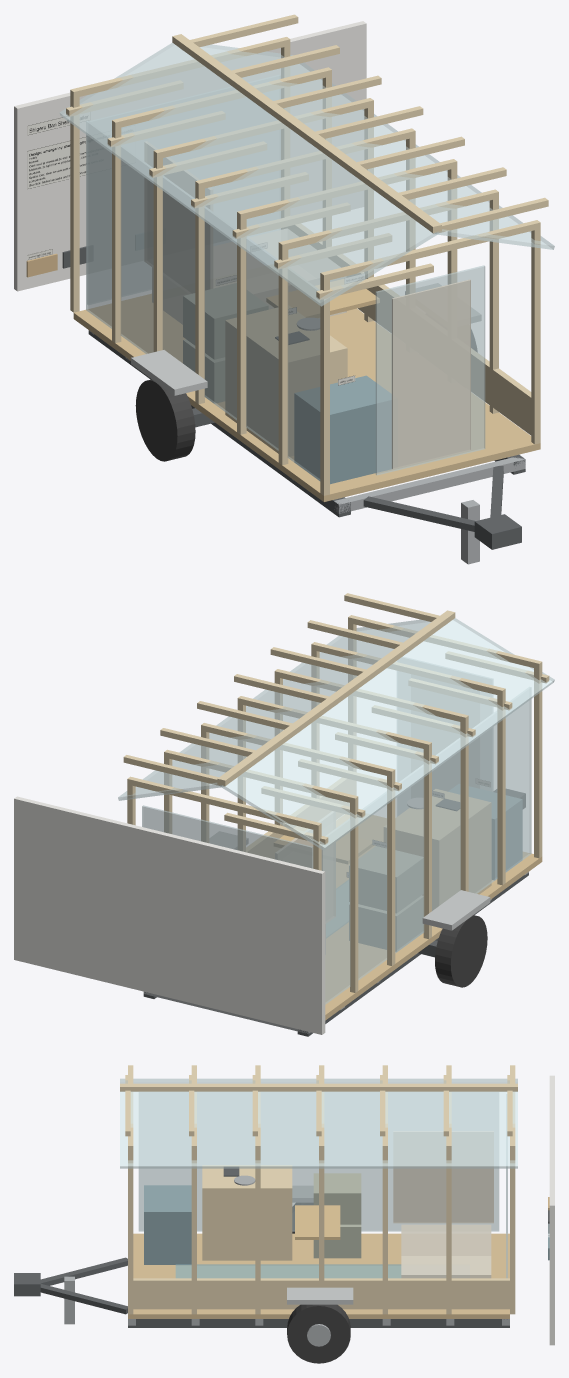
The model's file is shigeru-ban-shelter-trailer.dae.
3 renders of one model, top to bottom at view 1: azimuth 30°, elevation 25°; view 2: azimuth 150°, elevation 25°; view 3: azimuth 270°, elevation 25°, orthographic. The views are drawn at different scales.
Parts seen in each view (by area): view 1: left polycarbonate gable roof panel, left translucent wall panels, Shigeru Ban Shelter Trailer label board backing, rear translucent wall panel, 6x12 plywood trailer deck.002, canvas roll-up entry curtain, right polycarbonate gable roof panel, crate kitchenette module, water and battery crate utility zone, front translucent removable door panel, canvas privacy partition at cot, replaceable sleeping cot module (+48 smaller); view 2: Shigeru Ban Shelter Trailer label board backing, left polycarbonate gable roof panel, left translucent wall panels, right polycarbonate gable roof panel, crate kitchenette module, 6x12 plywood trailer deck.002, rear translucent wall panel, simple ridge cap, stacked storage crate 2, left trailer wheel.001, front translucent removable door panel, stacked storage crate 1 (+39 smaller); view 3: right polycarbonate gable roof panel, left translucent wall panels, 6x12 plywood trailer deck.002, cutaway side removable sill rail, canvas privacy partition at cot, crate kitchenette module, replaceable sleeping cot module, water and battery crate utility zone, simple ridge cap, central movement path - keep clear.002, right trailer wheel.001, right steel frame rail.001 (+18 smaller).
Part boxes in pixels (<box>): left polycarbonate gable roof panel: <box>59,43,438,306</box>; left translucent wall panels: <box>86,121,320,480</box>; Shigeru Ban Shelter Trailer label board backing: <box>14,21,366,291</box>; rear translucent wall panel: <box>87,75,280,304</box>; 6x12 plywood trailer deck.002: <box>73,294,540,501</box>; canvas roll-up entry curtain: <box>391,279,470,469</box>; right polycarbonate gable roof panel: <box>199,44,554,249</box>; crate kitchenette module: <box>225,305,347,456</box>; water and battery crate utility zone: <box>294,375,391,484</box>; front translucent removable door panel: <box>375,265,485,475</box>; canvas privacy partition at cot: <box>144,141,212,293</box>; replaceable sleeping cot module: <box>152,228,346,324</box>; Shigeru Ban Shelter Trailer label board backing: <box>14,796,325,1034</box>; left polycarbonate gable roof panel: <box>220,618,554,850</box>; left translucent wall panels: <box>321,687,531,1004</box>; right polycarbonate gable roof panel: <box>118,619,430,800</box>; crate kitchenette module: <box>384,789,491,910</box>; 6x12 plywood trailer deck.002: <box>325,814,542,1020</box>; rear translucent wall panel: <box>142,805,313,868</box>; simple ridge cap: <box>217,610,455,785</box>; stacked storage crate 2: <box>349,846,423,912</box>; left trailer wheel.001: <box>435,915,487,987</box>; front translucent removable door panel: <box>397,657,492,815</box>; stacked storage crate 1: <box>349,895,423,951</box>; right polycarbonate gable roof panel: <box>120,1091,517,1168</box>; left translucent wall panels: <box>138,1092,499,1231</box>; 6x12 plywood trailer deck.002: <box>128,1233,509,1318</box>; cutaway side removable sill rail: <box>128,1278,509,1309</box>; canvas privacy partition at cot: <box>393,1131,493,1223</box>; crate kitchenette module: <box>202,1165,292,1260</box>; replaceable sleeping cot module: <box>401,1224,491,1278</box>; water and battery crate utility zone: <box>144,1185,191,1264</box>; simple ridge cap: <box>120,1083,517,1091</box>; central movement path - keep clear.002: <box>175,1264,401,1278</box>; right trailer wheel.001: <box>287,1304,350,1363</box>; right steel frame rail.001: <box>128,1319,509,1327</box>.
Bounding box in the file's own units: 3.07 × 5.18 × 2.5.
Materials: 23 (9 with a texture image).
